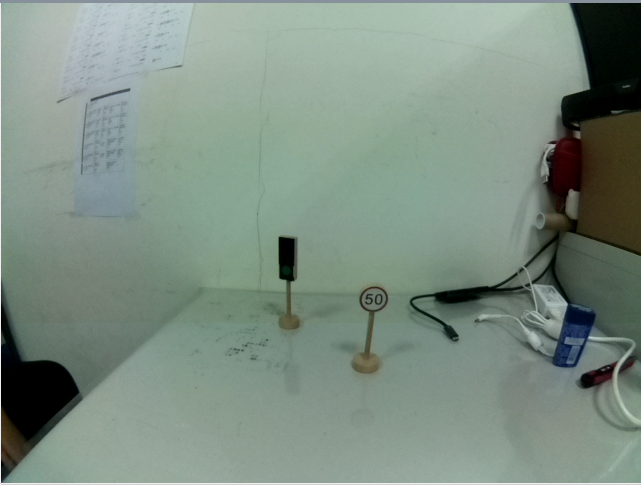Green: (275, 232, 303, 287)
Speed50: (358, 285, 390, 315)
